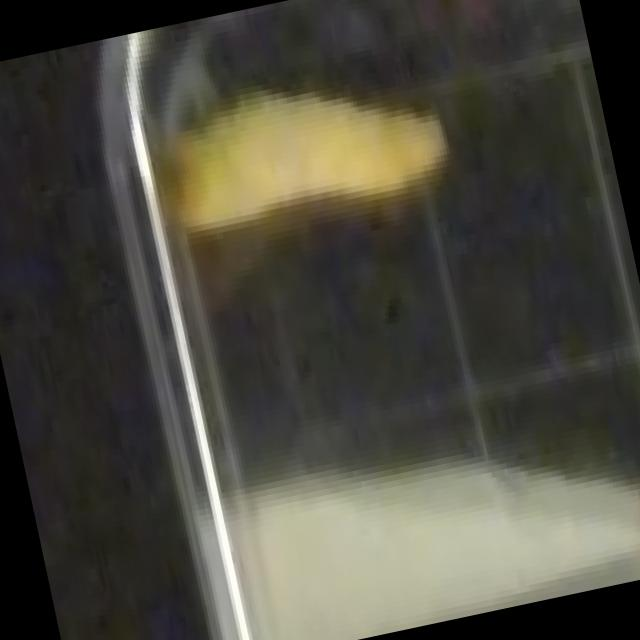larva: (135, 32, 472, 272)
